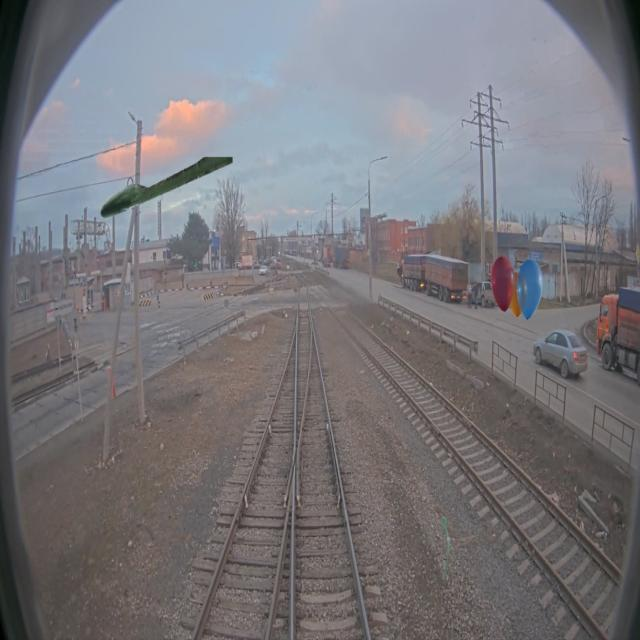balloon: (491, 256, 543, 320)
floating object: (99, 157, 235, 221), (441, 516, 450, 580)
